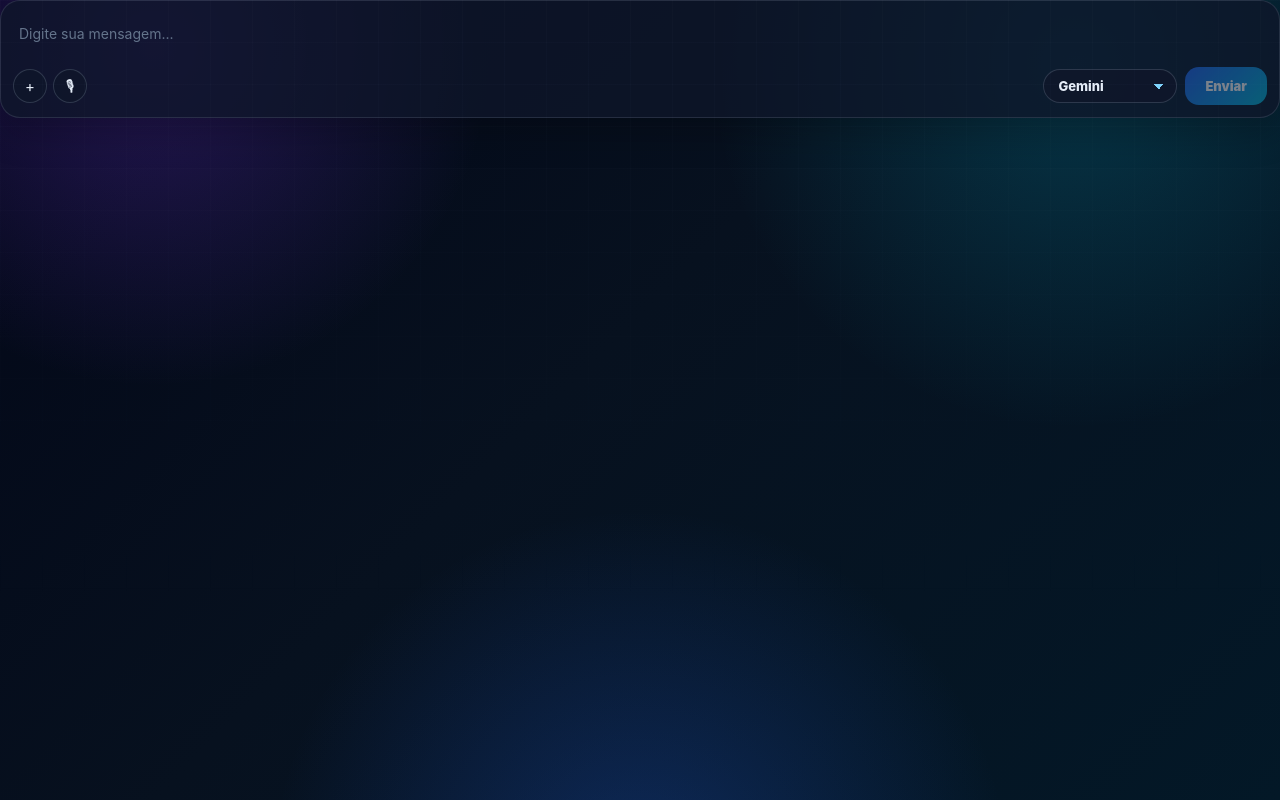
Test case: composer — microfone › cancelar aborta o reconhecimento sem apresentar erro ao usuário
This screenshot has width=1280, height=800.
Click the button named "Ditar mensagem por voz" at (70, 86), box [53, 69, 87, 103]
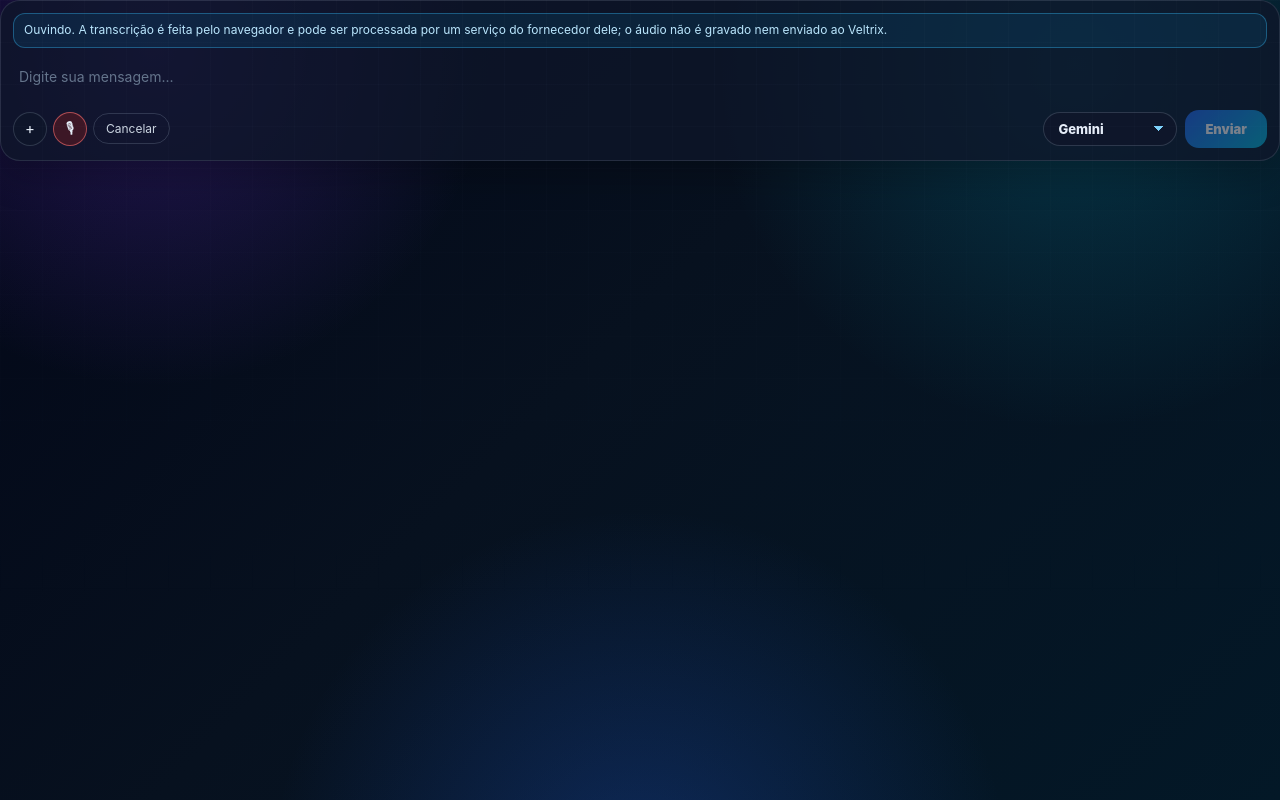
Click the button with aria-label "Cancelar ditado e descartar" at (131, 129), box [93, 113, 170, 144]
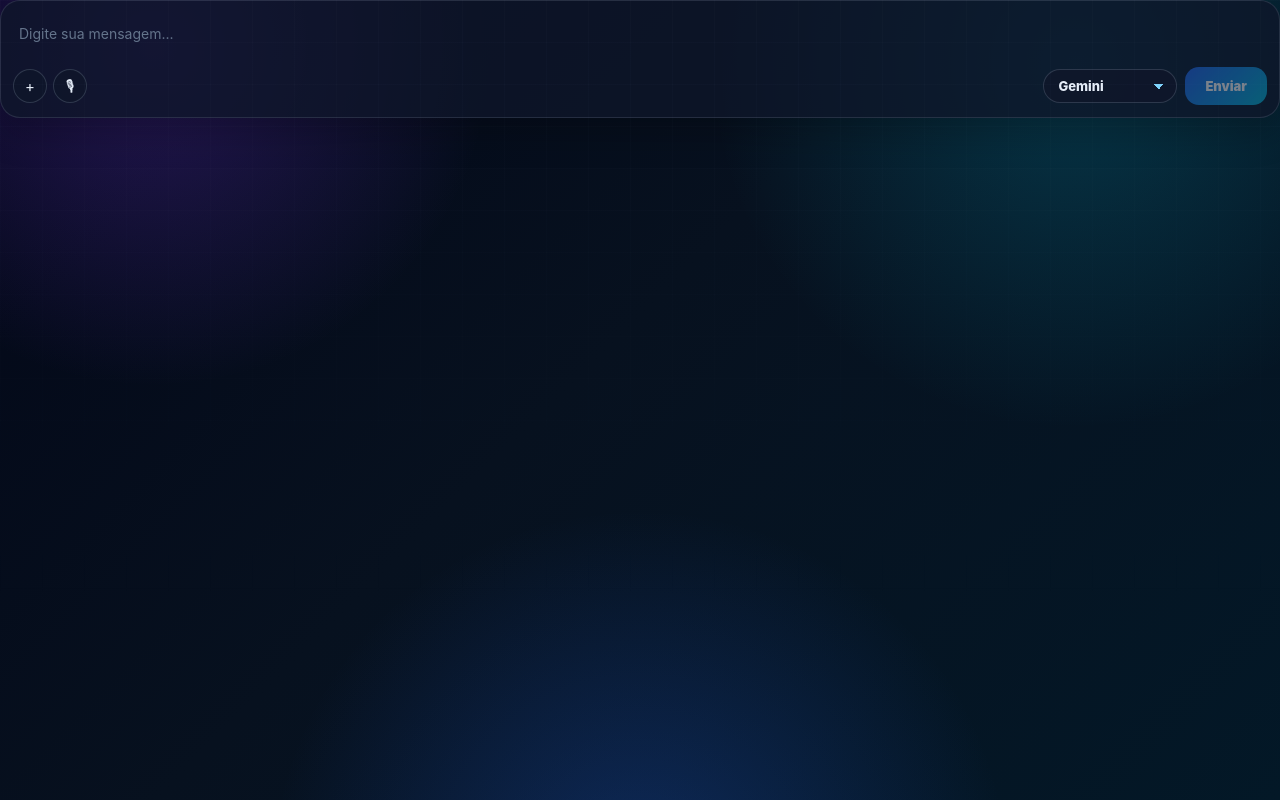
Check: the message is gone
